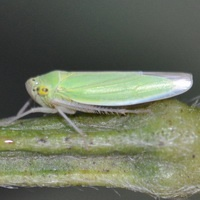insect: (0, 70, 192, 148)
